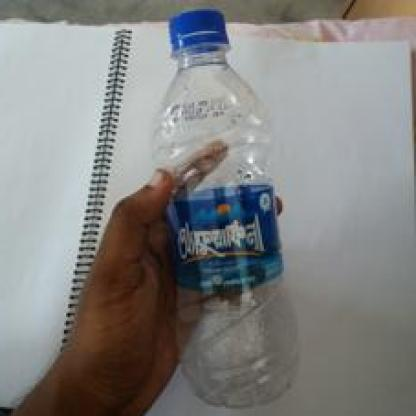bottle: (160, 0, 302, 414)
